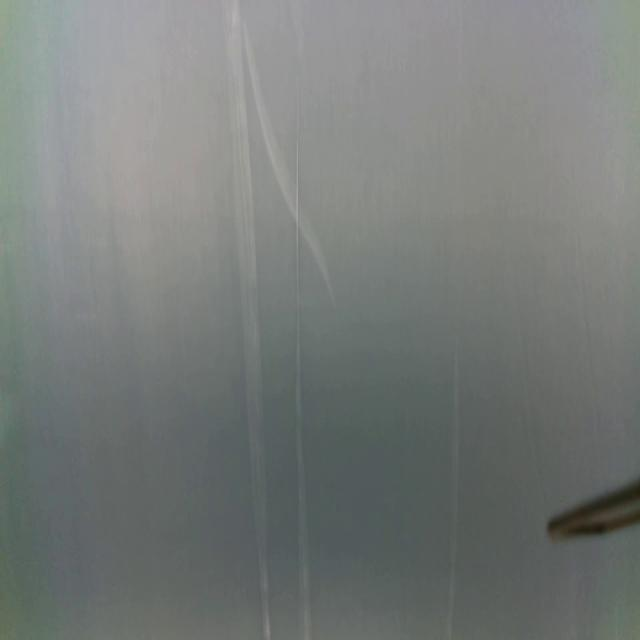crease: (226, 0, 271, 640), (247, 28, 336, 308), (293, 83, 312, 640), (442, 354, 462, 640)
